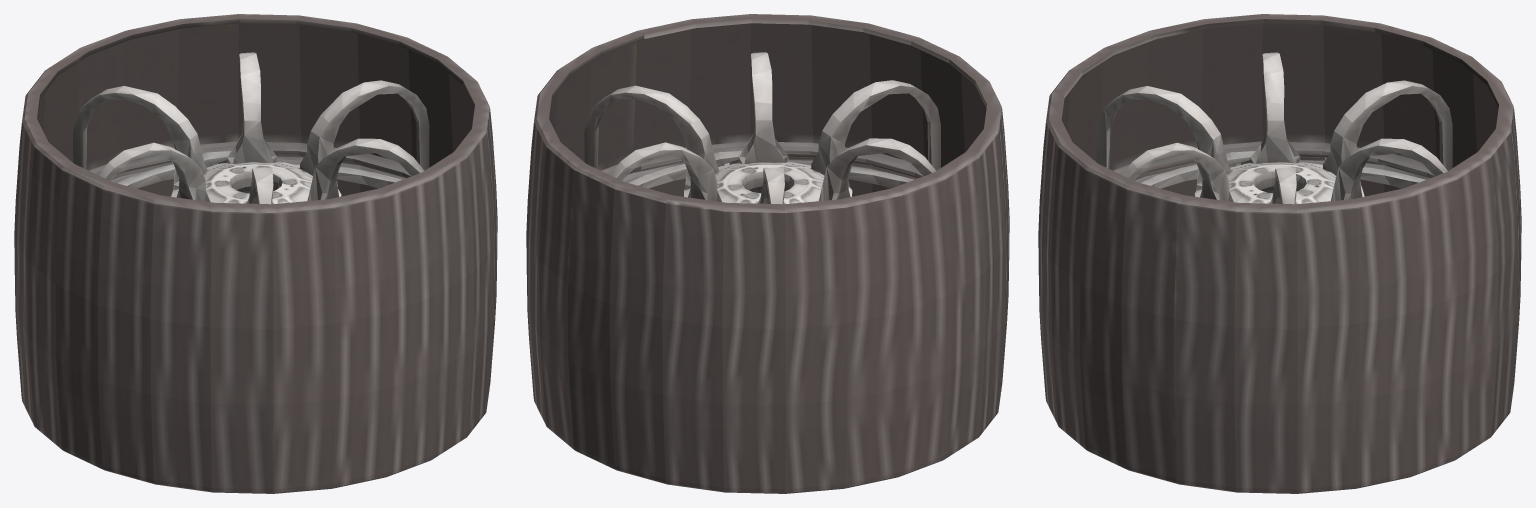
The model's file is Wheel_LeftMiddle.gltf.
3 views of the same model, side by side, from view 1: azimuth 30°, elevation 25°; view 2: azimuth 150°, elevation 25°; view 3: azimuth 270°, elevation 25° (orthographic).
Parts seen in each view (by area): view 1: Mesh_0; view 2: Mesh_0; view 3: Mesh_0.
Part boxes in pixels (x1,y1,x2,y2): Mesh_0: [14, 14, 497, 493]; Mesh_0: [526, 14, 1009, 493]; Mesh_0: [1038, 14, 1521, 493].
Bounding box in the file's own units: 0.5085 × 0.3306 × 0.5085.
1 material, 1 textured.
